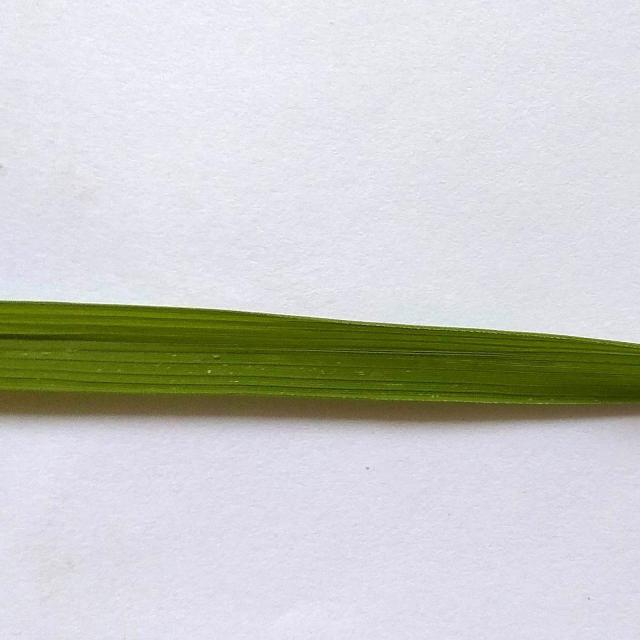healthy: (0, 264, 640, 467)
